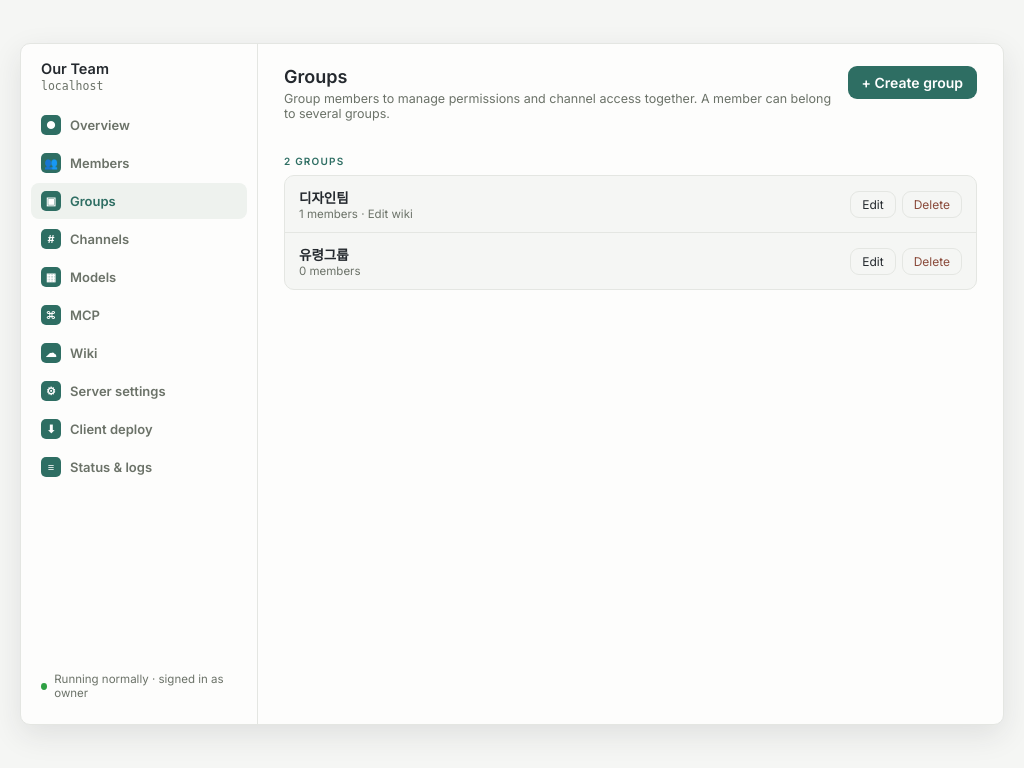
Test: 목록 렌더 + 편집 폼: 멤버·채널 칩(삭제된 채널 id는 조용히 무시)
expect the text "디자인팀" is shown: met, box [299,190,349,206]
expect the text "유령그룹" is shown: met, box [299,247,349,263]
Click the button "Edit" in the row of "· Edit wiki".
click(873, 204)  # box [850,190,896,218]
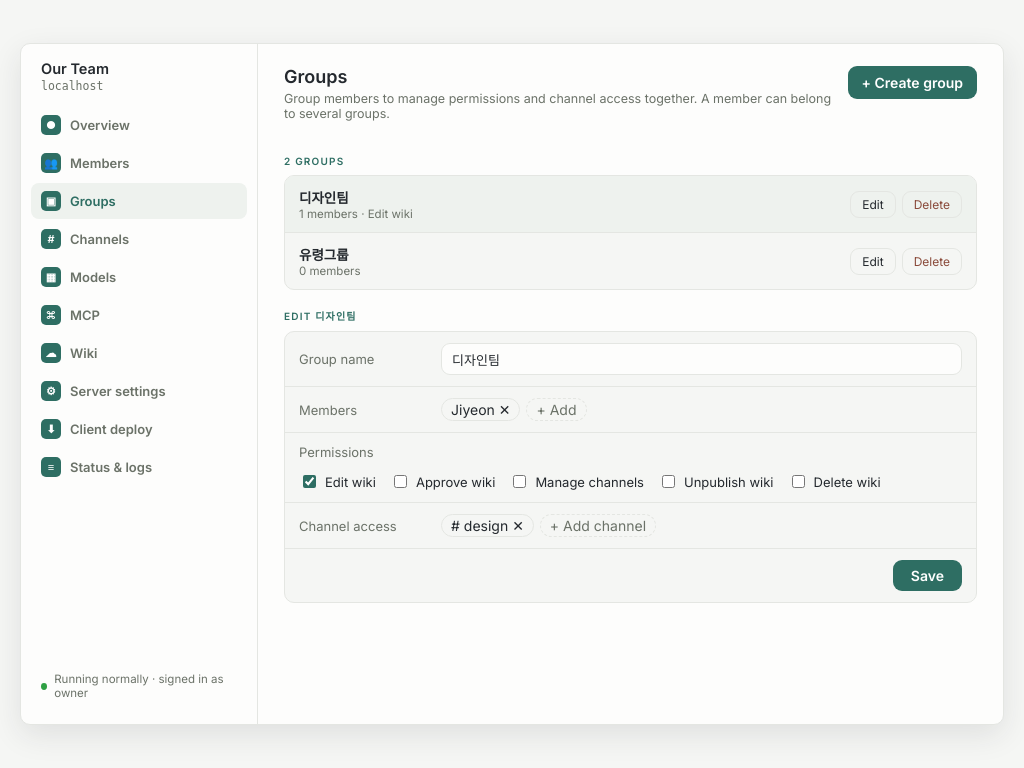
expect the button "Jiyeon ✕" is shown: met, box [441,398,520,421]
expect the button "# design ✕" is shown: met, box [441,514,534,537]
Click the button "Edit" in the row of "0 members".
click(873, 261)  # box [850,248,896,274]
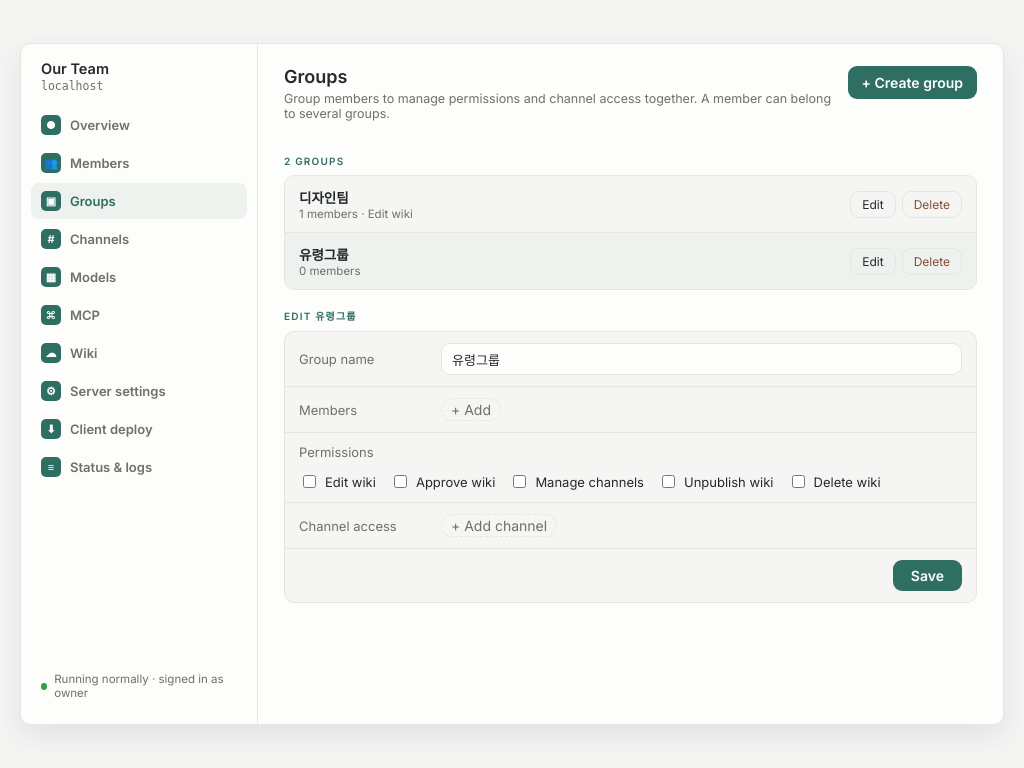
expect the text "Edit 유령그룹" is shown: met, box [284,310,357,322]
expect the button "✕" is gone: met
